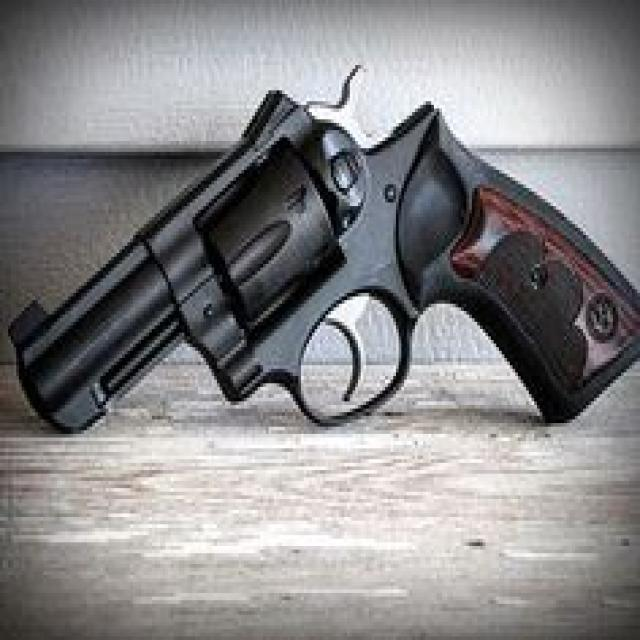revolver: (6, 66, 640, 470)
